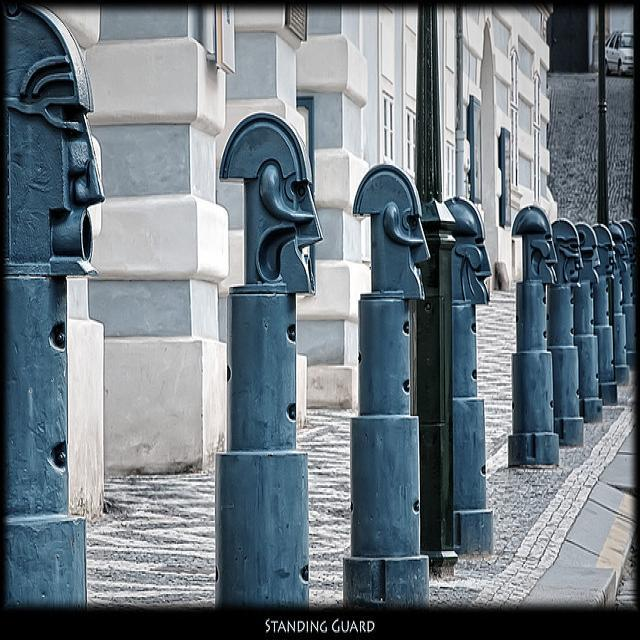fire_hydrant: (215, 110, 321, 607)
